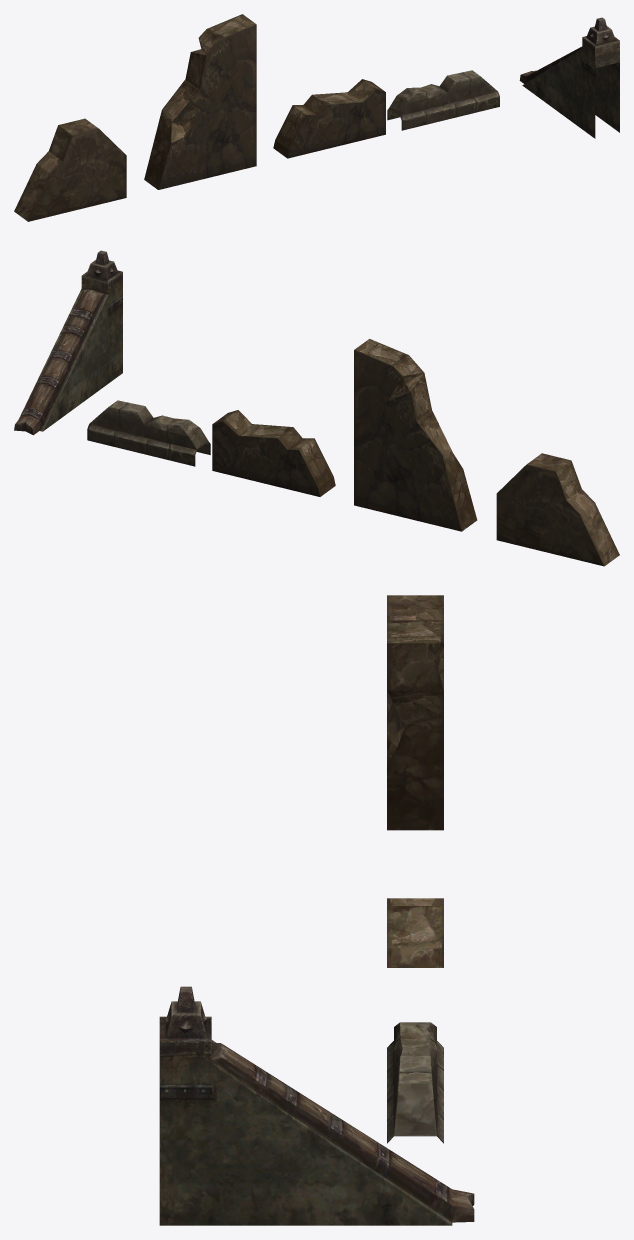
File: 2_DXSD_DiAiPinJieQiang_01.FBX
The picture shows the model from 3 angles, top to bottom: view 1: azimuth 30°, elevation 25°; view 2: azimuth 150°, elevation 25°; view 3: azimuth 270°, elevation 25°; orthographic projection. The views are drawn at different scales.
Visible parts, largest first — view 1: 2_DXSD_DiAiPinJieQiang_03, 2_DXSD_DiAiPinJieQiang_04, 2_DXSD_ZhongPinJieQiang_01, 2_DXSD_DiAiPinJieQiang_01, 2_DXSD_DiAiPinJieQiang_02; view 2: 2_DXSD_DiAiPinJieQiang_03, 2_DXSD_ZhongPinJieQiang_01, 2_DXSD_DiAiPinJieQiang_04, 2_DXSD_DiAiPinJieQiang_01, 2_DXSD_DiAiPinJieQiang_02; view 3: 2_DXSD_ZhongPinJieQiang_01, 2_DXSD_DiAiPinJieQiang_03, 2_DXSD_DiAiPinJieQiang_02, 2_DXSD_DiAiPinJieQiang_01, 2_DXSD_DiAiPinJieQiang_04.
Boxes of the visible parts, left/top/right/bottom form: 2_DXSD_DiAiPinJieQiang_03: left=144, top=14, right=256, bottom=189; 2_DXSD_DiAiPinJieQiang_04: left=14, top=118, right=126, bottom=221; 2_DXSD_ZhongPinJieQiang_01: left=519, top=17, right=619, bottom=138; 2_DXSD_DiAiPinJieQiang_01: left=273, top=79, right=385, bottom=158; 2_DXSD_DiAiPinJieQiang_02: left=387, top=70, right=499, bottom=130; 2_DXSD_DiAiPinJieQiang_03: left=354, top=339, right=477, bottom=531; 2_DXSD_ZhongPinJieQiang_01: left=14, top=250, right=122, bottom=435; 2_DXSD_DiAiPinJieQiang_04: left=496, top=453, right=619, bottom=566; 2_DXSD_DiAiPinJieQiang_01: left=212, top=410, right=335, bottom=496; 2_DXSD_DiAiPinJieQiang_02: left=87, top=400, right=210, bottom=466; 2_DXSD_ZhongPinJieQiang_01: left=159, top=986, right=474, bottom=1225; 2_DXSD_DiAiPinJieQiang_03: left=387, top=620, right=443, bottom=830; 2_DXSD_DiAiPinJieQiang_02: left=387, top=1022, right=443, bottom=1143; 2_DXSD_DiAiPinJieQiang_01: left=387, top=898, right=443, bottom=967; 2_DXSD_DiAiPinJieQiang_04: left=387, top=595, right=443, bottom=620.
Bounding box in the file's own units: 1521 × 385 × 387.
